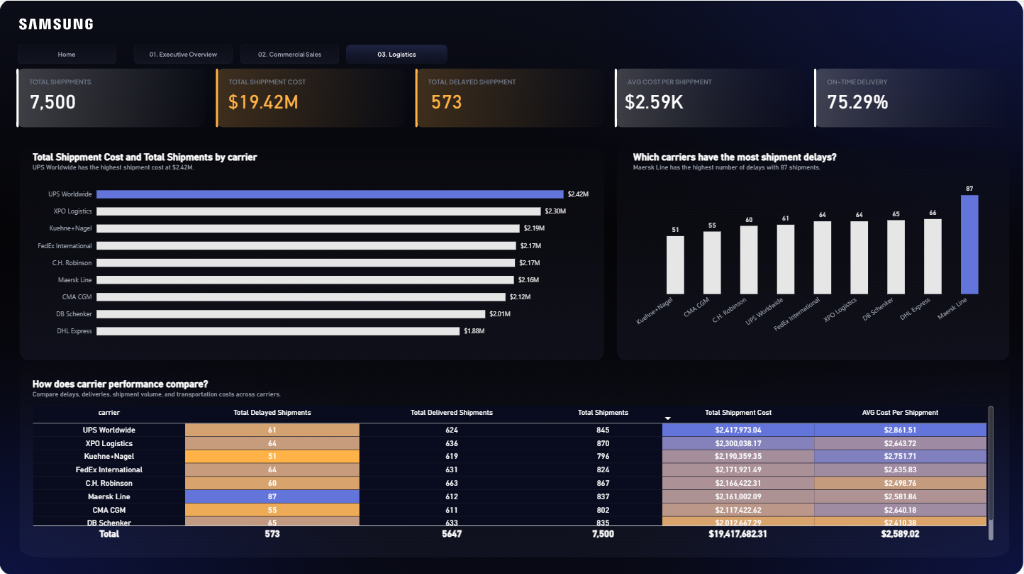

What the dashboard file says about the page in this screenshot:
{"tool":"powerbi","page":{"name":"03. Logistics","canvas":[1920,1080],"ordinal":3},"visuals":[{"type":"image","box":[32,82,190,36],"z":0},{"type":"card","fields":{"Values":["_Measures.Total Shipments"]},"box":[17.1,150,165.7,72.9],"z":0},{"type":"card","fields":{"Values":["_Measures.Total Shippment Cost"]},"box":[412.9,150,165.7,72.9],"z":1000},{"type":"card","fields":{"Values":["_Measures.Total Delayed Shipments"]},"box":[755.7,150,165.7,72.9],"z":2000},{"type":"image","box":[250,82,190,36],"z":3000},{"type":"card","fields":{"Values":["_Measures.AVG Cost Per Shippment"]},"box":[1145.7,150,165.7,72.9],"z":3000},{"type":"card","fields":{"Values":["_Measures.On-Time Delivery %"]},"box":[1527.1,150,165.7,72.9],"z":4000},{"type":"barChart","fields":{"Category":["fact_shipment.carrier"],"Y":["_Measures.Total Shippment Cost"]},"box":[47.1,268.6,1075.7,388.6],"z":5000},{"type":"columnChart","title":"Which carriers have the most shipment delays?","fields":{"Category":["fact_shipment.carrier"],"Y":["_Measures.Total Delayed Shipments"]},"box":[1172.9,268.6,708.6,388.6],"z":7000},{"type":"tableEx","title":"How does carrier performance compare?","fields":{"Values":["fact_shipment.carrier","_Measures.Total Delayed Shipments","_Measures.Total On-Time Shipments","_Measures.Total Shipments","_Measures.Total Shippment Cost","_Measures.AVG Cost Per Shippment"]},"box":[47.1,694.3,1834.3,334.3],"z":8000},{"type":"image","box":[650,82,190,36],"z":8001},{"type":"image","box":[450,82,190,36],"z":8002}]}

Visuals, with their boxes in screenshot pixels (x1, y1, x2, y2), scaled from the page's 1920x1080 canvas onto the 1024x574 screenshot:
image: x1=17 y1=44 x2=118 y2=63
card - _Measures.Total Shipments: x1=9 y1=80 x2=97 y2=118
card - _Measures.Total Shippment Cost: x1=220 y1=80 x2=309 y2=118
card - _Measures.Total Delayed Shipments: x1=403 y1=80 x2=491 y2=118
image: x1=133 y1=44 x2=235 y2=63
card - _Measures.AVG Cost Per Shippment: x1=611 y1=80 x2=699 y2=118
card - _Measures.On-Time Delivery %: x1=814 y1=80 x2=903 y2=118
barChart - fact_shipment.carrier x _Measures.Total Shippment Cost: x1=25 y1=143 x2=599 y2=349
"Which carriers have the most shipment delays?" columnChart: x1=626 y1=143 x2=1003 y2=349
"How does carrier performance compare?" tableEx: x1=25 y1=369 x2=1003 y2=547
image: x1=347 y1=44 x2=448 y2=63
image: x1=240 y1=44 x2=341 y2=63
